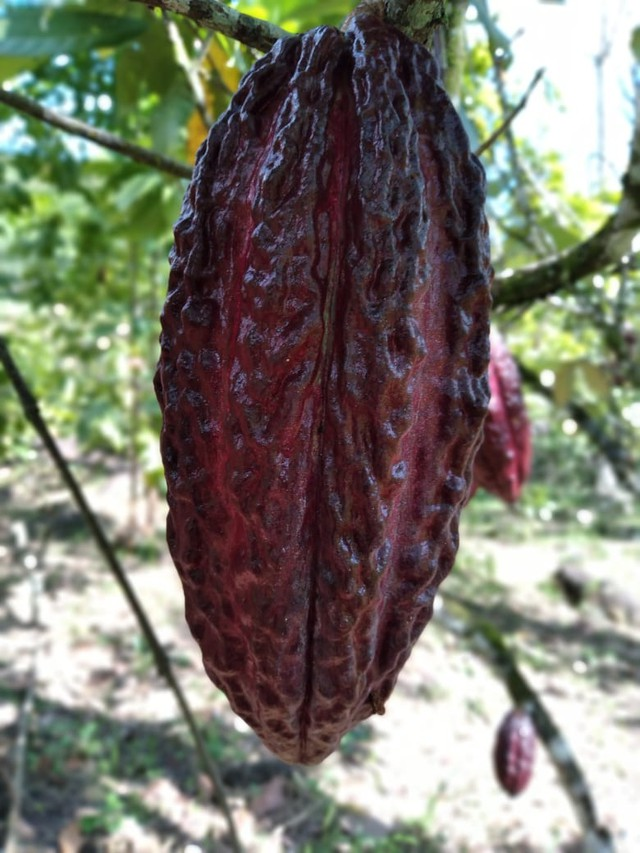Health: (150, 7, 511, 774)
